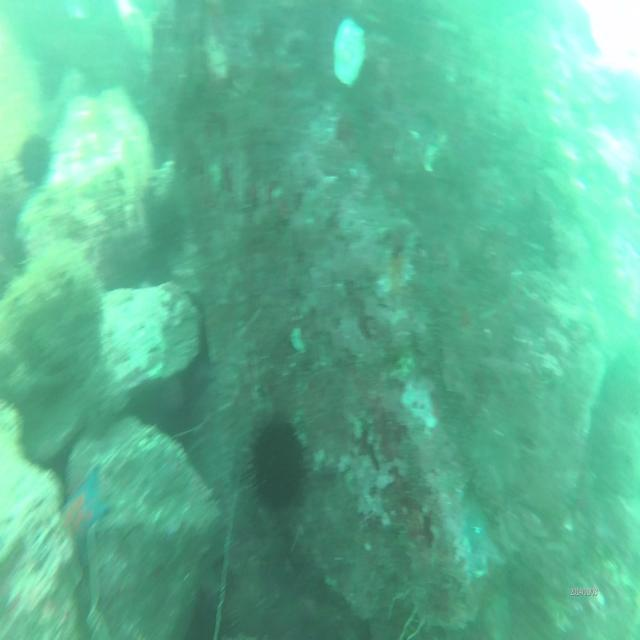echinus: (250, 418, 308, 510), (18, 131, 52, 191)
starfish: (62, 470, 112, 570)
